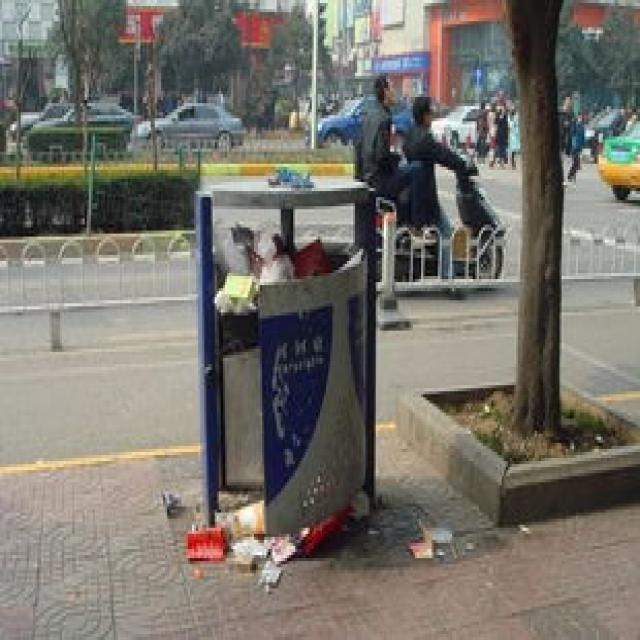garbage: (159, 486, 370, 588)
overflow: (192, 164, 378, 558)
